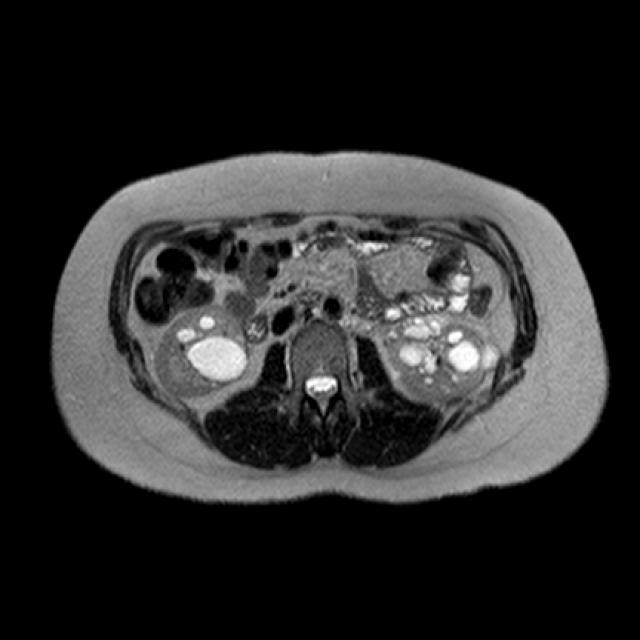sag: (151, 302, 248, 399)
sol: (381, 315, 500, 410)
